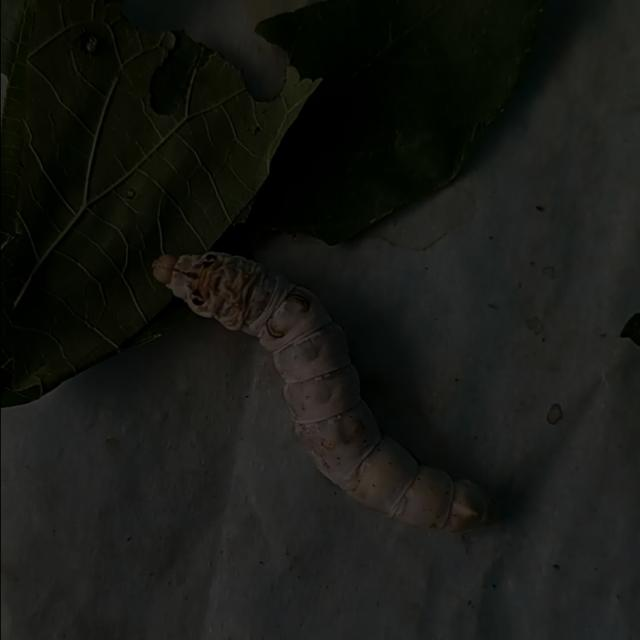Grasserie: (141, 212, 528, 571)
